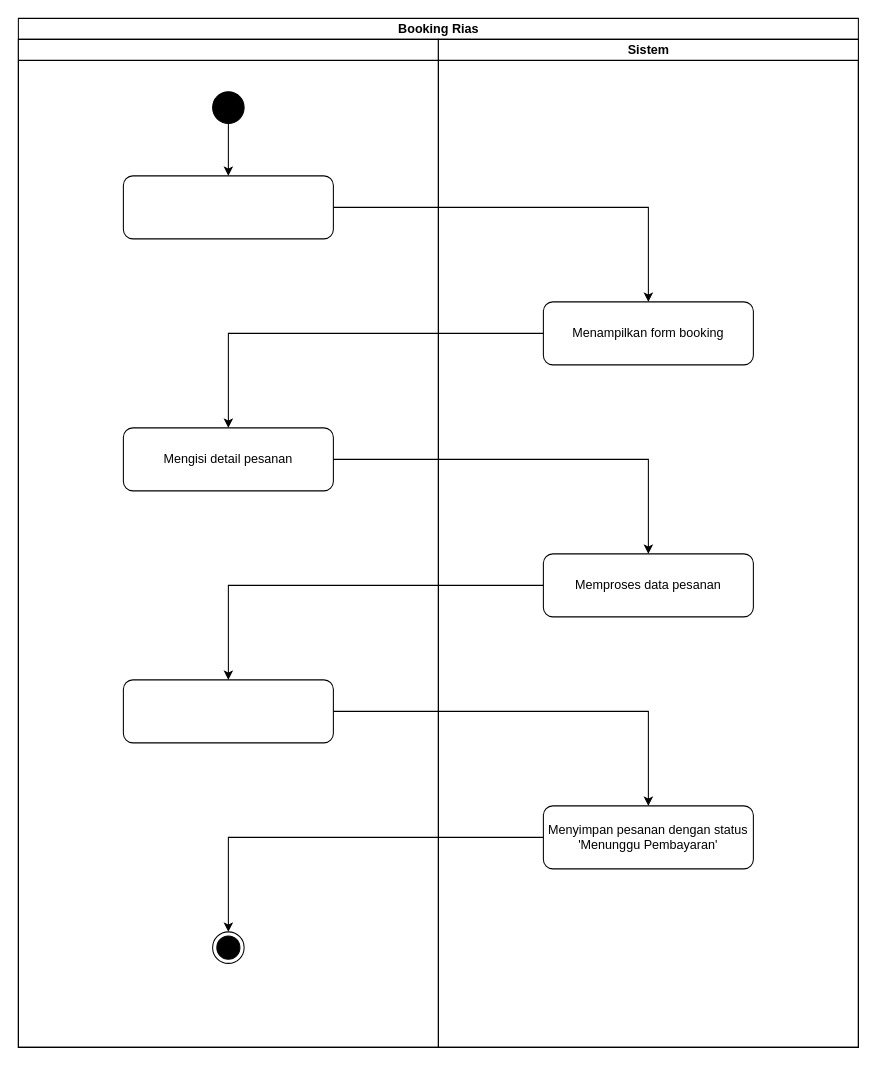
Some shapes in this 877 by 1066 pixel diagram are drawn without their labels. The box of each missing label's shape, as (x1, y1, x2, y2) in pixels:
Klik tombol buat pesanan: (122, 679, 333, 743)
Memilih layanan: (122, 175, 333, 239)
Pengguna: (17, 38, 438, 1047)
